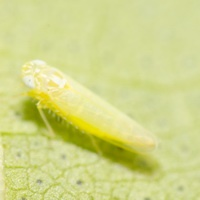insect: (21, 60, 157, 159)
